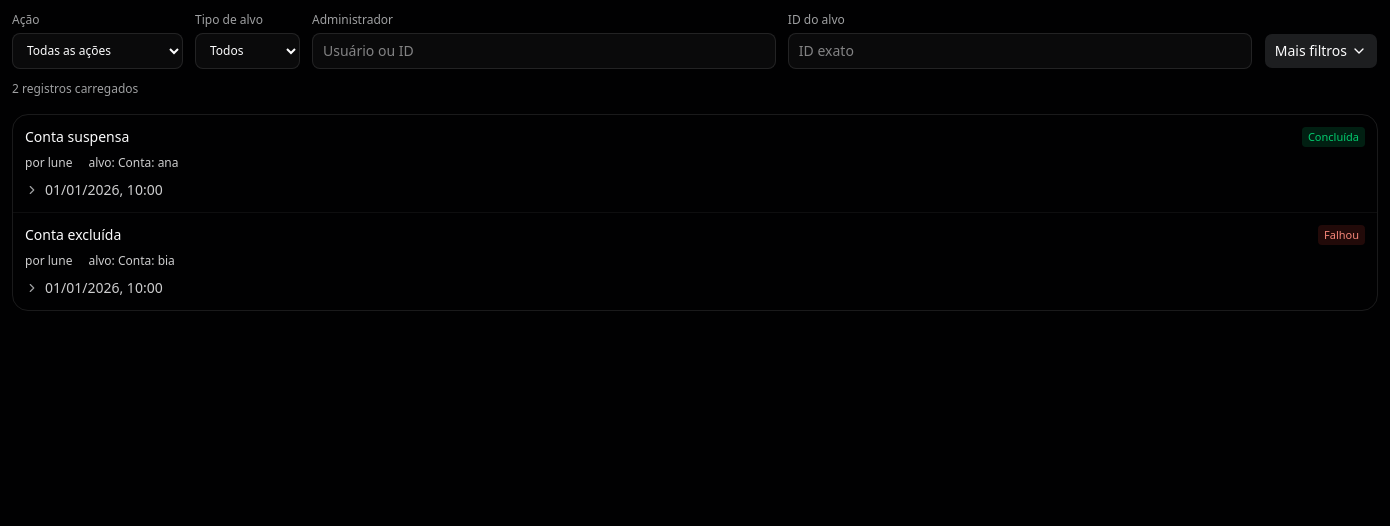
it: AuditPage › compact: stacked records with the same details on demand, and no table
Click the button named "detalhes de". click: [104, 189]
box: [25,180,1365,200]
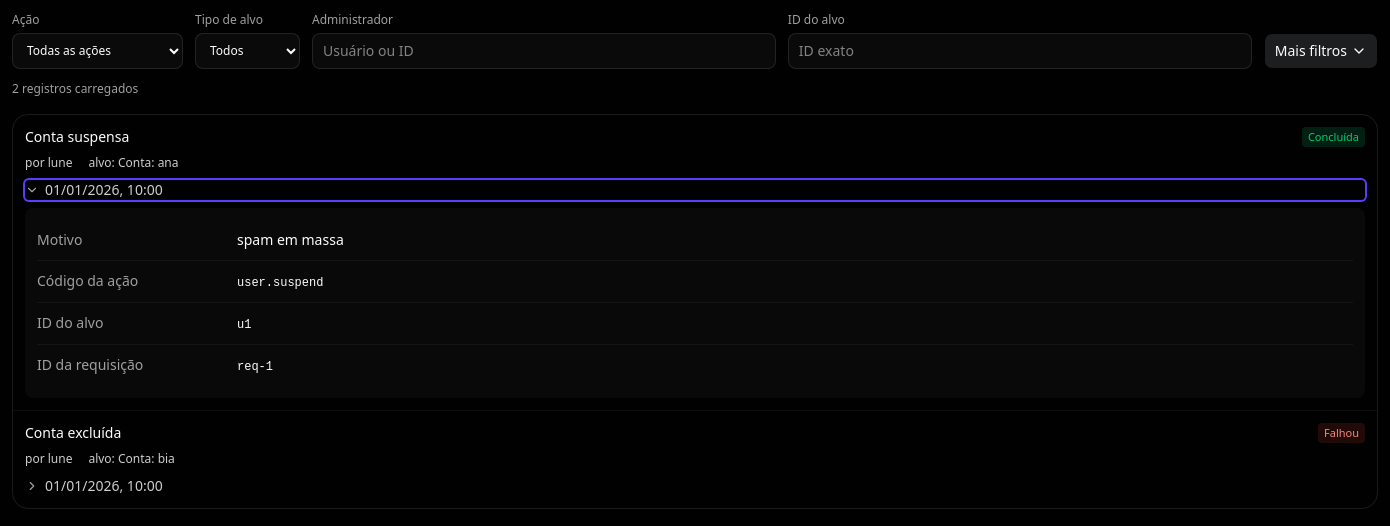
Check: the text "req-1" is shown, box [237,360,273,374]
